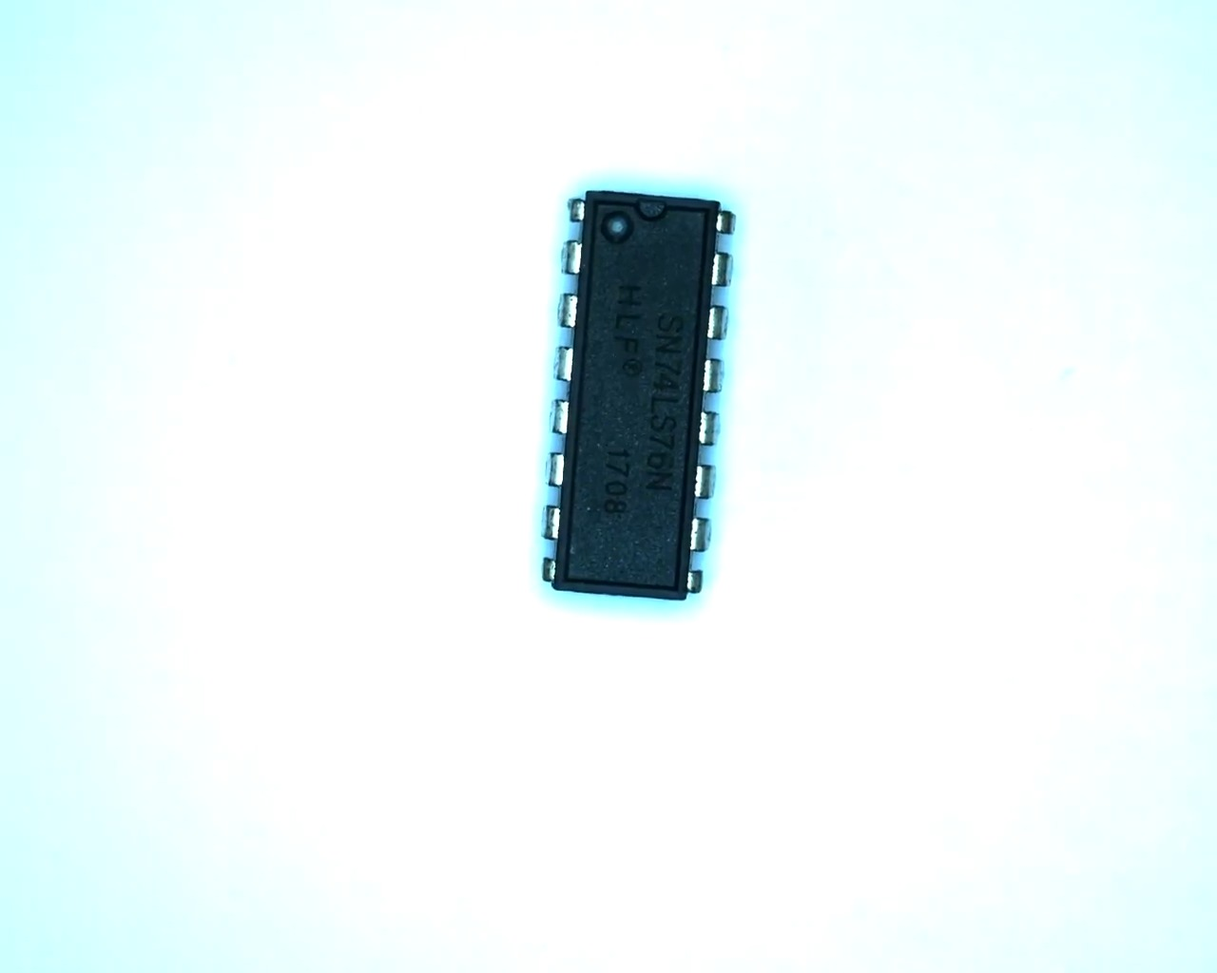IC: (529, 182, 746, 611)
notch: (629, 190, 671, 229)
